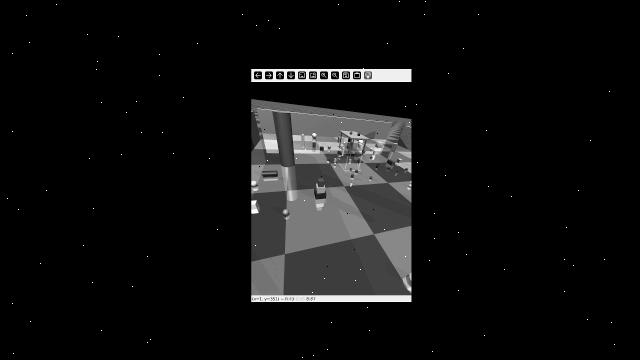cilindro: (270, 110, 299, 168), (260, 168, 282, 179), (391, 142, 398, 152), (301, 133, 305, 150), (371, 149, 378, 156), (342, 145, 348, 153), (311, 142, 317, 148), (396, 168, 401, 175), (350, 173, 356, 178), (347, 159, 352, 164), (356, 159, 361, 164), (374, 165, 380, 169), (350, 179, 355, 183), (404, 168, 409, 172), (326, 157, 329, 162)
cuadrado: (312, 185, 329, 192), (250, 199, 258, 213), (375, 139, 385, 149), (337, 135, 345, 143), (318, 179, 325, 187), (397, 157, 404, 164), (319, 145, 325, 151), (354, 152, 360, 157), (357, 133, 361, 136)
esfera: (251, 180, 260, 189), (281, 209, 290, 216), (311, 132, 318, 139), (370, 147, 375, 151), (348, 167, 353, 171), (361, 149, 366, 153), (370, 156, 375, 160), (369, 176, 375, 179), (409, 183, 412, 189), (328, 144, 332, 148), (349, 131, 353, 135), (360, 139, 364, 143), (334, 163, 337, 167), (338, 155, 341, 158), (388, 166, 390, 170), (355, 139, 357, 140)
rectangulo: (312, 188, 329, 200), (387, 159, 395, 166), (358, 143, 364, 148), (337, 150, 342, 155)
